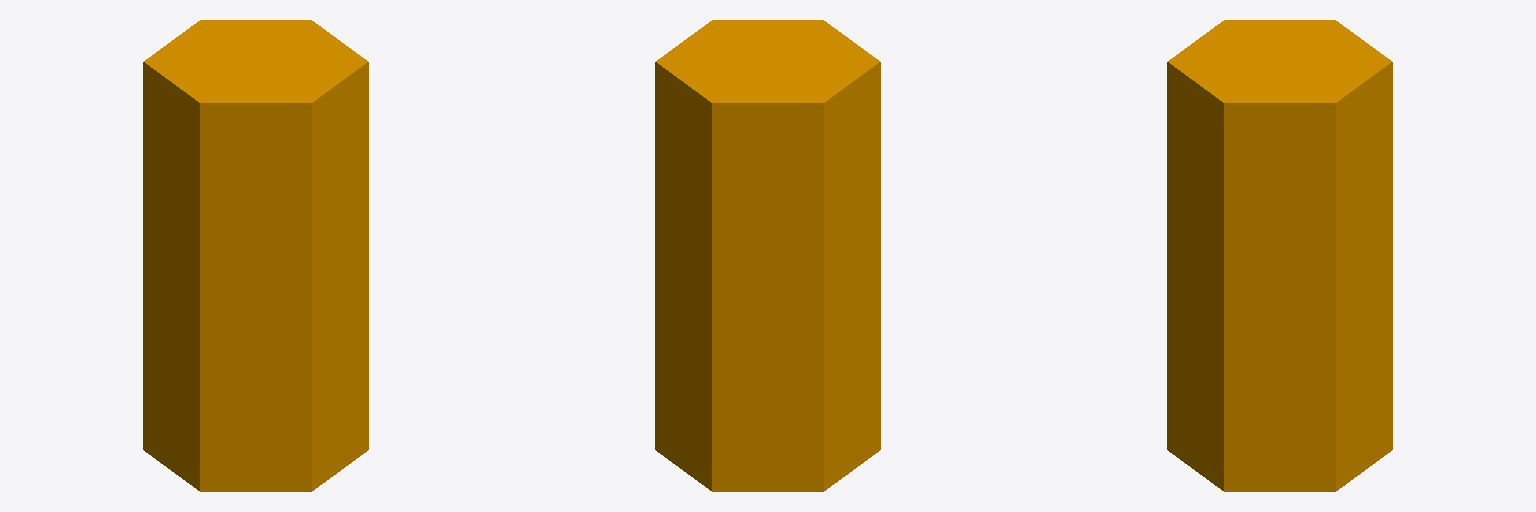
robot.urdf — hexagon_peg:
<?xml version="1.0"?>
<robot name="hexagon_peg">
    <link name="hexagon_peg">
        <visual>
            <!--origin xyz="0 0 0.01905" rpy="0 1.57079632679 0"-->
            <geometry>
                <mesh filename="../mesh/factory_insertion/hexagon_peg.obj"/>
            </geometry>
        </visual>
        <collision>
            <!--origin xyz="0 0 0.01905" rpy="0 1.57079632679 0"-->
            <geometry>
                <mesh filename="../mesh/factory_insertion/hexagon_peg.obj"/>
            </geometry>
        </collision>
    </link>
</robot>

--- Render facts (derived) ---
Views: 3 orthographic renders of the robot side by side, from view 1: azimuth 30°, elevation 25°; view 2: azimuth 150°, elevation 25°; view 3: azimuth 270°, elevation 25°.
Robot: hexagon_peg — 1 links, 0 joints (none); root link hexagon_peg; default pose: all joints at 0.
Links seen in each view (by area): view 1: hexagon_peg; view 2: hexagon_peg; view 3: hexagon_peg.
Boxes of the visible links, x1,y1,x2,y2 form: hexagon_peg: (143,20,368,491); hexagon_peg: (655,20,880,491); hexagon_peg: (1167,20,1392,491).
Size in the robot's own frame: 0.0346 by 0.04 by 0.0762 metres.
1 mesh visuals loaded from 1 distinct referenced files (1 OBJ).
